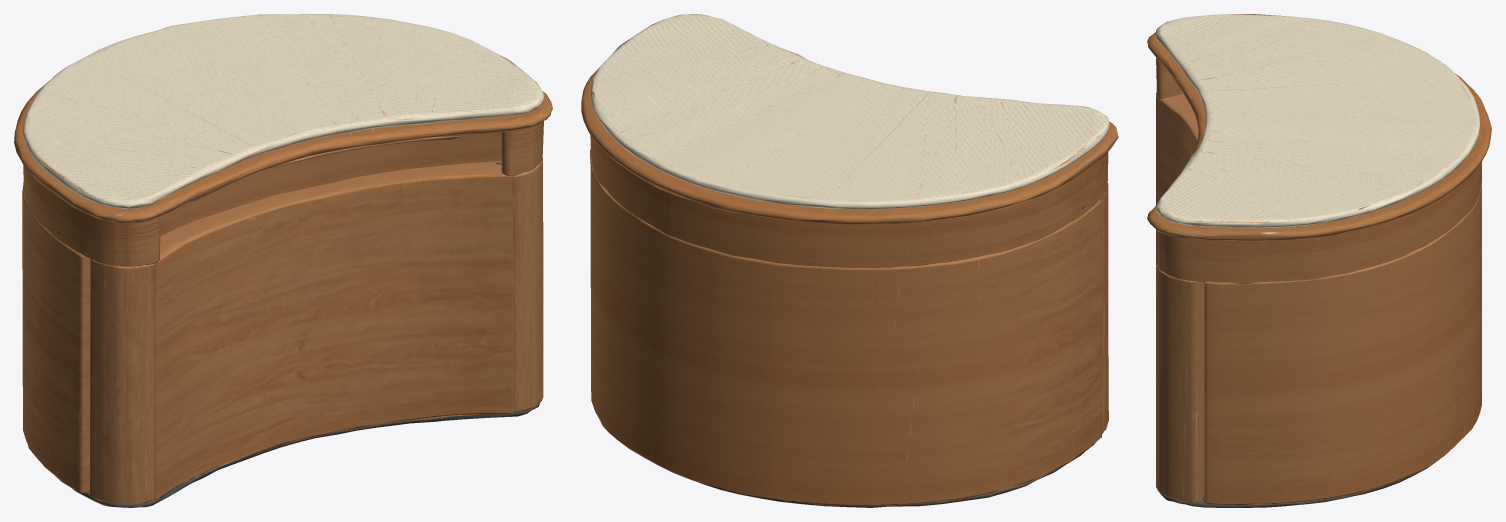
Rendered from Meshy_AI_wedge_of_a_round_office_desk_0903105601_texture.glb.
3 renders of one model, left to right at view 1: azimuth 30°, elevation 25°; view 2: azimuth 150°, elevation 25°; view 3: azimuth 270°, elevation 25°, orthographic. The views are drawn at different scales.
Visible parts, largest first — view 1: mesh_node; view 2: mesh_node; view 3: mesh_node.
Boxes of the visible parts, bbox=[...] form: mesh_node: bbox=[14, 14, 552, 507]; mesh_node: bbox=[581, 14, 1118, 507]; mesh_node: bbox=[1147, 14, 1491, 507].
Bounding box in the file's own units: 1 × 0.6367 × 0.6855.
1 material, 1 textured.
